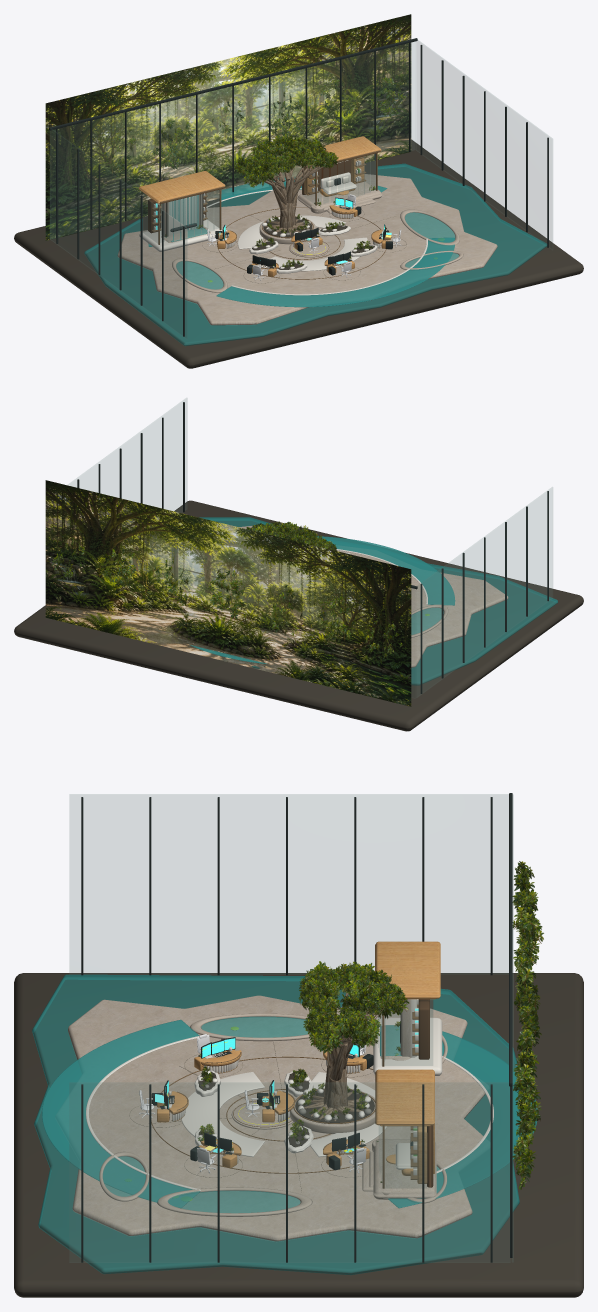
The model's file is garden-office-v8.glb.
The picture shows the model from 3 angles, top to bottom: view 1: azimuth 30°, elevation 25°; view 2: azimuth 150°, elevation 25°; view 3: azimuth 270°, elevation 25°; orthographic projection. The views are drawn at different scales.
Visible parts, largest first — view 1: RuntimeBatch_Low_iron_architectural_glass, V5 Exterior Garden Plate, RuntimeBatch_Limestone_joint, RuntimeBatch_Limestone_warm, RuntimeBatch_Shallow_turquoise_water, RuntimeBatch_Graphite, RuntimeBatch_Ficus_cluster_atlas, RuntimeBatch_Quarter_sawn_oak, RuntimeBatch_V8_honed_limestone, RuntimeBatch_Ivory_fluted_stone, RuntimeBatch_Champagne_bronze, RuntimeBatch_Old_ficus_bark (+2 smaller); view 2: V5 Exterior Garden Plate, RuntimeBatch_Low_iron_architectural_glass, RuntimeBatch_Limestone_joint, RuntimeBatch_Shallow_turquoise_water, RuntimeBatch_Ficus_cluster_atlas, RuntimeBatch_Limestone_warm, RuntimeBatch_Graphite; view 3: RuntimeBatch_Low_iron_architectural_glass, RuntimeBatch_Limestone_joint, RuntimeBatch_Limestone_warm, RuntimeBatch_Shallow_turquoise_water, RuntimeBatch_Ficus_cluster_atlas, RuntimeBatch_Graphite, RuntimeBatch_Quarter_sawn_oak, RuntimeBatch_V8_honed_limestone, RuntimeBatch_Champagne_bronze, RuntimeBatch_Old_ficus_bark, RuntimeBatch_Ivory_fluted_stone, RuntimeBatch_Dark_oak (+1 smaller).
Boxes of the visible parts, box(x1,y1,x2,y2) form: RuntimeBatch_Low_iron_architectural_glass: box(50, 40, 552, 338); V5 Exterior Garden Plate: box(45, 14, 411, 240); RuntimeBatch_Limestone_joint: box(14, 139, 583, 368); RuntimeBatch_Limestone_warm: box(117, 174, 497, 325); RuntimeBatch_Shallow_turquoise_water: box(84, 163, 547, 346); RuntimeBatch_Graphite: box(49, 38, 548, 336); RuntimeBatch_Ficus_cluster_atlas: box(78, 70, 406, 267); RuntimeBatch_Quarter_sawn_oak: box(139, 136, 391, 276); RuntimeBatch_V8_honed_limestone: box(139, 188, 427, 295); RuntimeBatch_Ivory_fluted_stone: box(153, 160, 383, 272); RuntimeBatch_Champagne_bronze: box(151, 150, 387, 279); RuntimeBatch_Old_ficus_bark: box(254, 154, 323, 235); V5 Exterior Garden Plate: box(45, 480, 411, 706); RuntimeBatch_Low_iron_architectural_glass: box(68, 398, 552, 698); RuntimeBatch_Limestone_joint: box(14, 500, 583, 731); RuntimeBatch_Shallow_turquoise_water: box(190, 517, 557, 685); RuntimeBatch_Ficus_cluster_atlas: box(51, 521, 402, 663); RuntimeBatch_Limestone_warm: box(239, 526, 508, 667); RuntimeBatch_Graphite: box(77, 402, 548, 693); RuntimeBatch_Low_iron_architectural_glass: box(69, 794, 513, 1262); RuntimeBatch_Limestone_joint: box(14, 973, 583, 1297); RuntimeBatch_Limestone_warm: box(68, 995, 485, 1241); RuntimeBatch_Shallow_turquoise_water: box(32, 974, 537, 1275); RuntimeBatch_Ficus_cluster_atlas: box(163, 861, 543, 1189); RuntimeBatch_Graphite: box(81, 793, 512, 1262); RuntimeBatch_Quarter_sawn_oak: box(157, 941, 440, 1183); RuntimeBatch_V8_honed_limestone: box(86, 1017, 493, 1190); RuntimeBatch_Champagne_bronze: box(151, 944, 418, 1188); RuntimeBatch_Old_ficus_bark: box(303, 990, 396, 1121); RuntimeBatch_Ivory_fluted_stone: box(169, 999, 418, 1175); RuntimeBatch_Dark_oak: box(169, 999, 433, 1187).
Size of the model in its own units: 37 by 13.18 by 28.4.
Materials: 24 (5 with a texture image).
